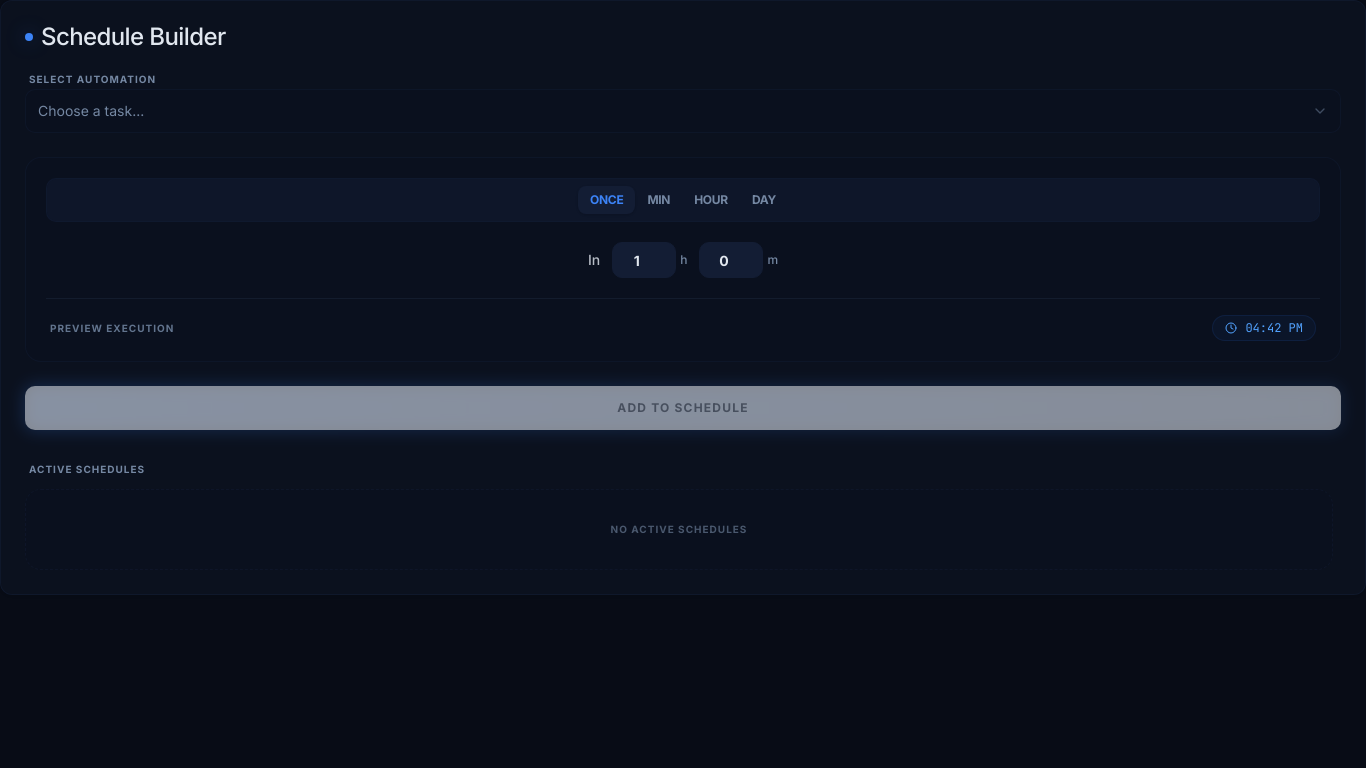
it: ScheduleBuilder once tab › immediately converts minute overflow into hours in the UI
Replace the text in the 1st number field with placeholder "HH" with "0": (644, 260) 612,242 -> 676,278
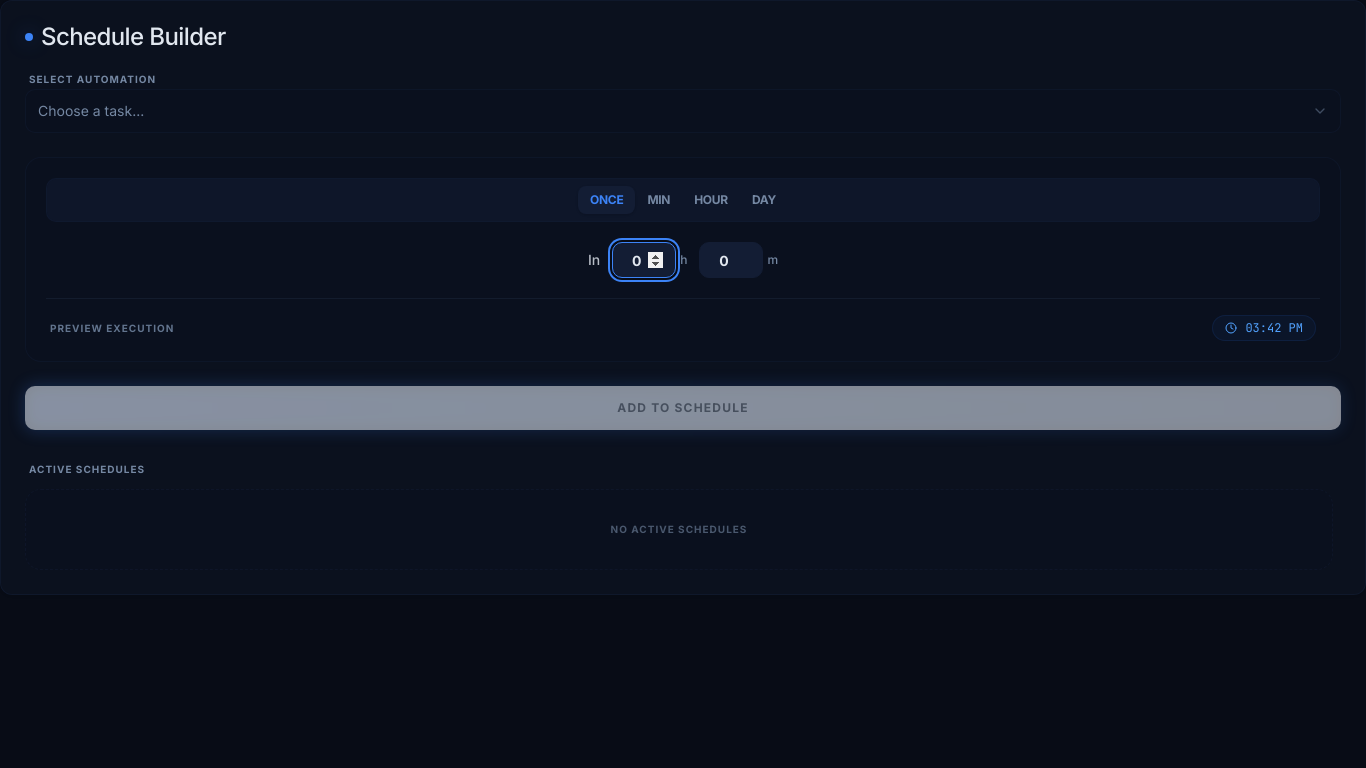
Replace the text in the 2nd number field with placeholder "MM" with "120": (731, 260) 699,242 -> 763,278
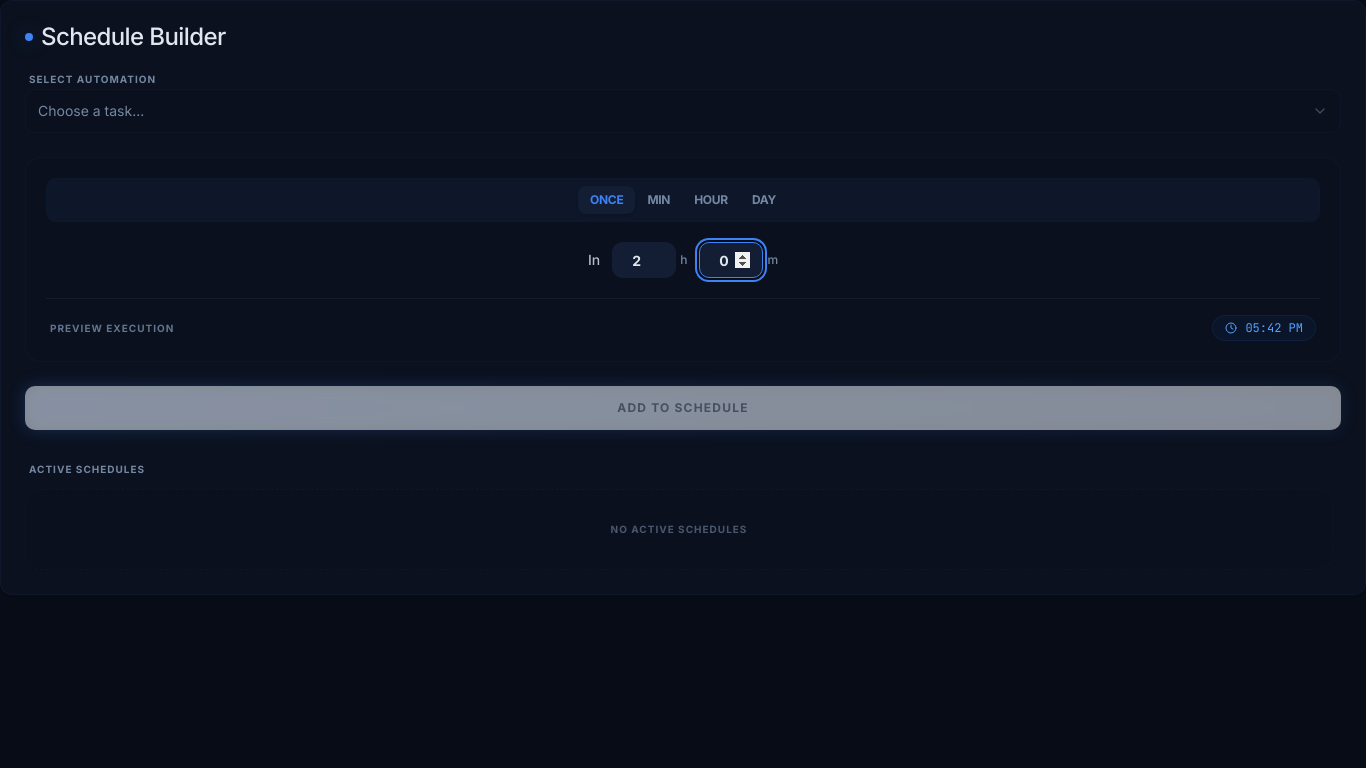
Check: the 1st number field with placeholder "HH" holds "2", box 612,242 -> 676,278
